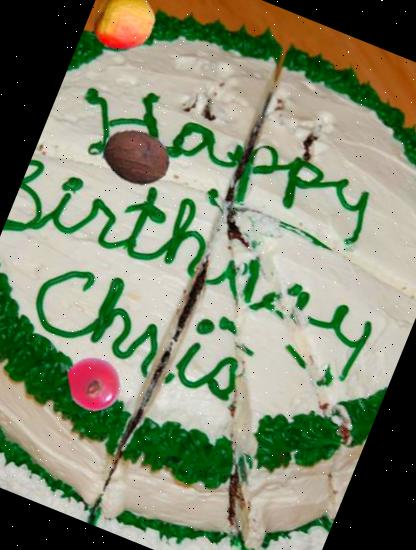Apple: (82, 0, 164, 61)
Cocos: (92, 113, 180, 202)
Redcurrant: (58, 348, 130, 420)
